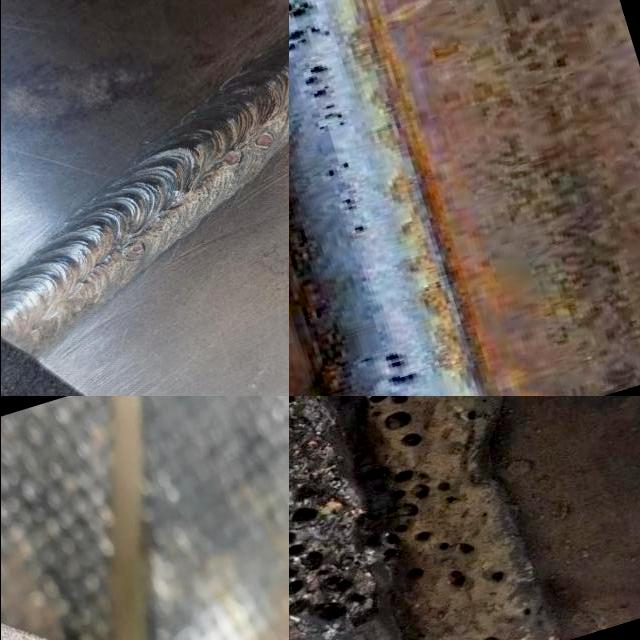defect: (360, 462, 510, 591), (288, 500, 373, 630), (361, 396, 427, 451), (348, 347, 426, 387), (288, 0, 332, 56), (296, 61, 342, 100), (304, 100, 356, 132), (448, 406, 493, 430), (323, 157, 354, 181), (333, 193, 360, 215), (252, 129, 276, 153), (219, 148, 244, 171), (348, 223, 379, 239), (121, 243, 147, 261), (148, 217, 171, 234), (191, 186, 210, 202)
